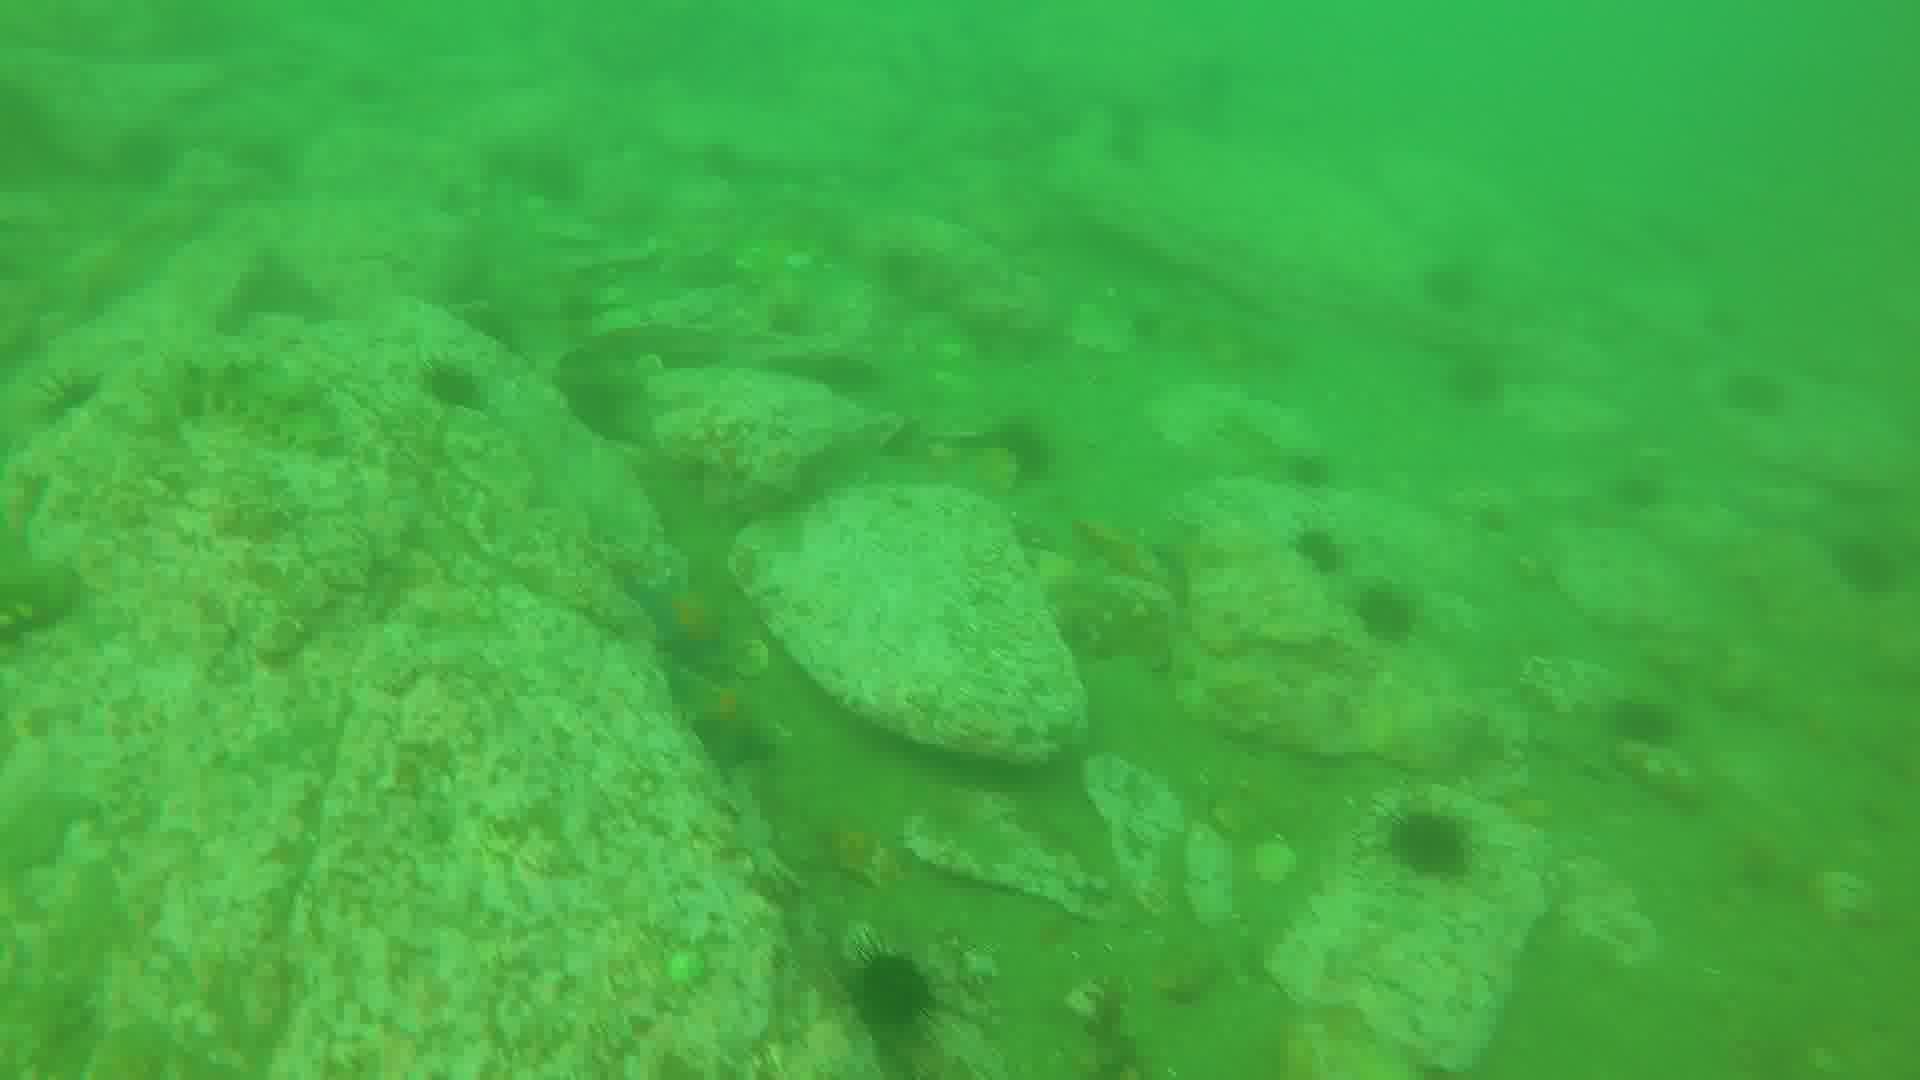echinus: (550, 355, 641, 448), (855, 947, 939, 1033), (1385, 811, 1480, 885), (36, 371, 115, 433), (1291, 517, 1360, 585), (415, 348, 477, 423), (1354, 585, 1427, 646), (992, 413, 1052, 484)
holothurian: (169, 365, 352, 440), (1, 560, 73, 662)
starfish: (669, 665, 781, 765), (634, 578, 731, 676)
